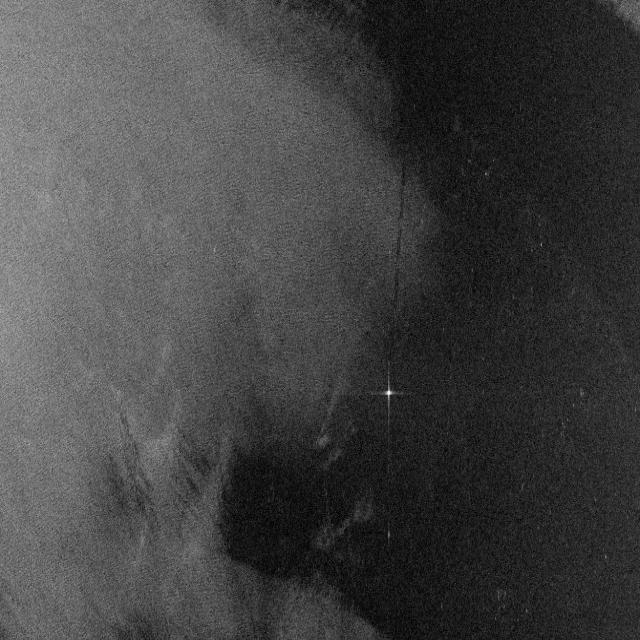look-alike: (212, 328, 637, 636), (200, 5, 637, 148), (415, 156, 638, 320)
oil-spill: (386, 132, 409, 380)
ship: (376, 367, 403, 427)
